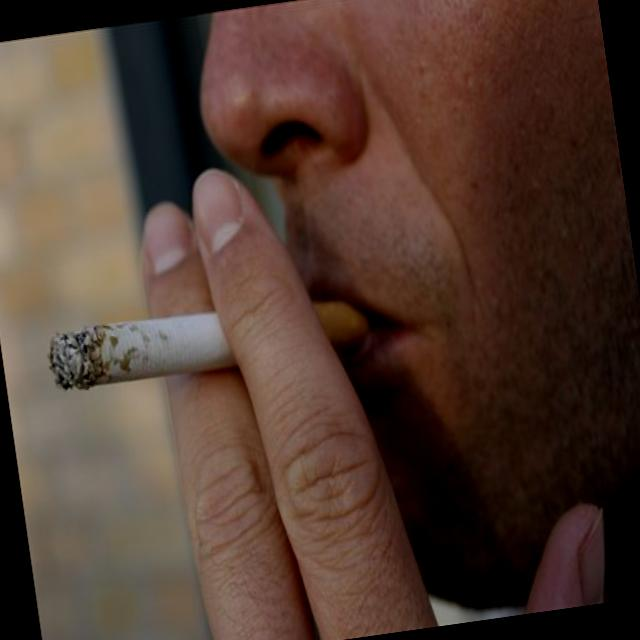cigarette: (45, 276, 378, 426)
